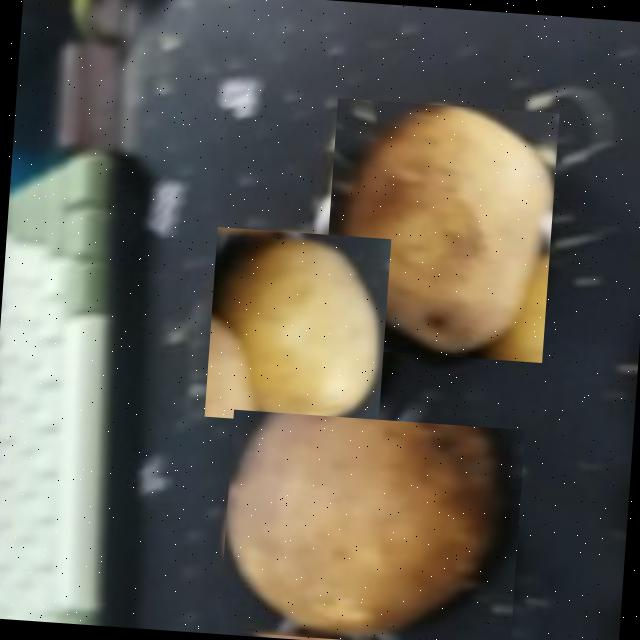Damaged potato: (217, 409, 524, 640), (319, 98, 558, 362)
Potato: (203, 226, 390, 428)
